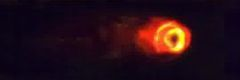keyhole: (167, 30, 181, 48)
